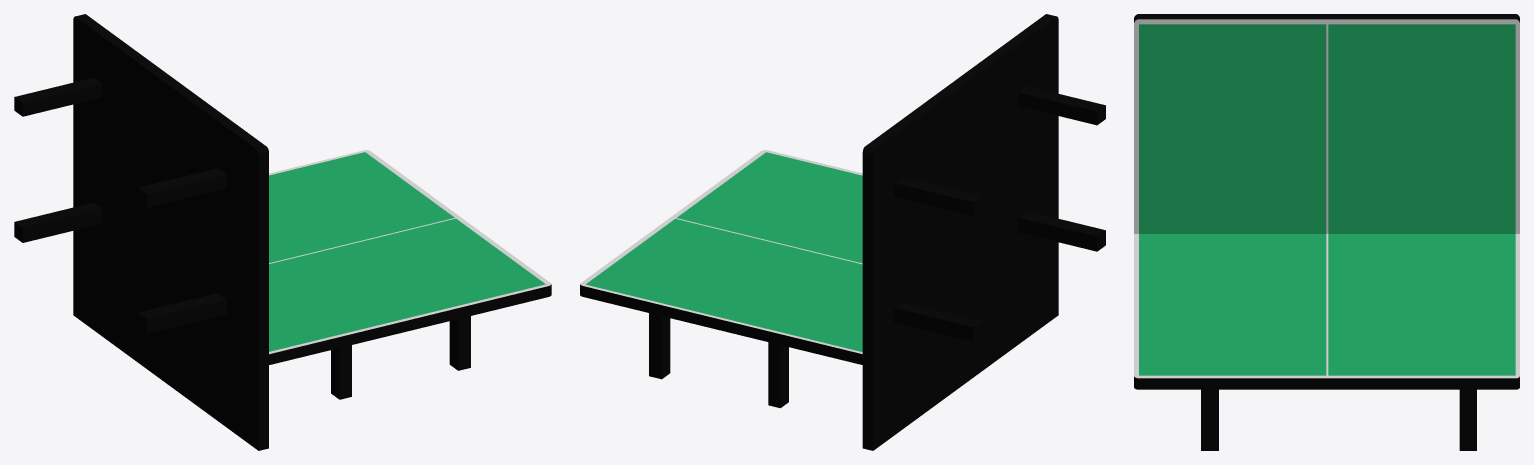
File: TabletennisU.fbx
The picture shows the model from 3 angles, left to right: view 1: azimuth 30°, elevation 25°; view 2: azimuth 150°, elevation 25°; view 3: azimuth 270°, elevation 25°; orthographic projection. The views are drawn at different scales.
Parts seen in each view (by area): view 1: Cube.001; view 2: Cube.001; view 3: Cube.001.
Boxes of the visible parts, x1=… form: Cube.001: x1=14, y1=14, x2=551, y2=450; Cube.001: x1=580, y1=14, x2=1105, y2=450; Cube.001: x1=1134, y1=14, x2=1519, y2=450.
Bounding box in the file's own units: 358 × 274 × 307.
